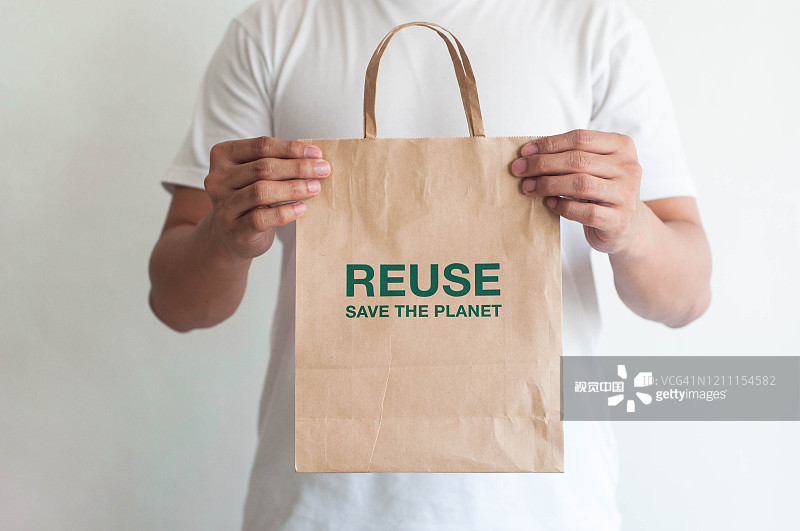no-phone: (505, 117, 653, 261), (190, 125, 339, 264)
